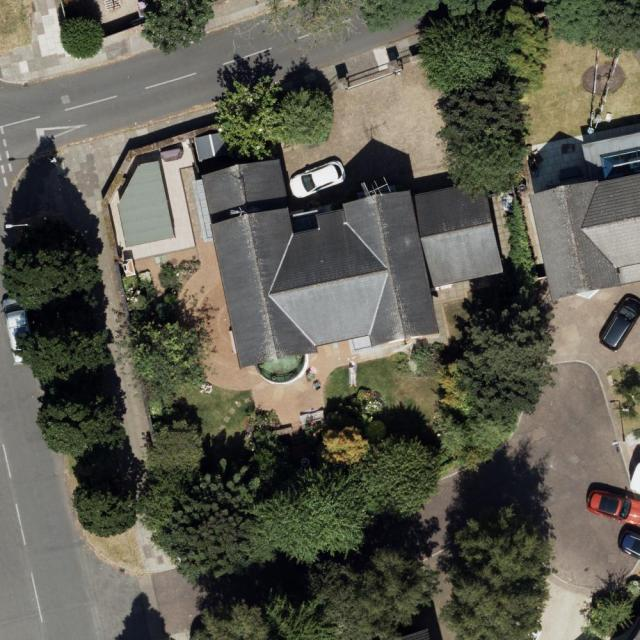roof: (192, 132, 506, 386), (529, 133, 640, 304), (116, 160, 174, 249)
skylight: (599, 148, 640, 181)
